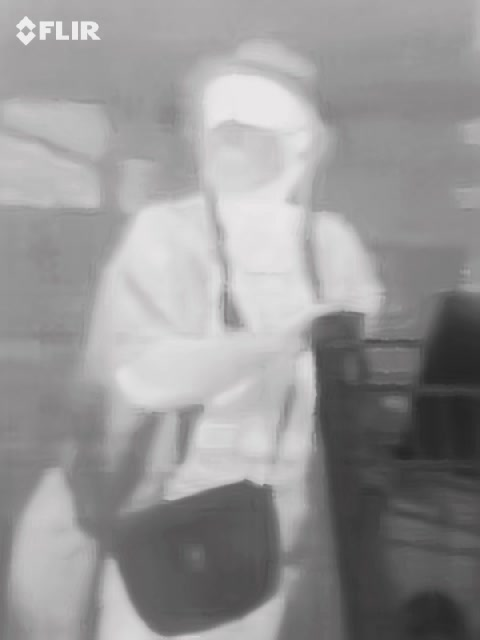head: (190, 57, 330, 205)
